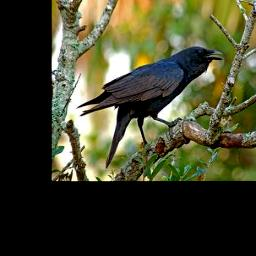Crow: (74, 46, 224, 169)
